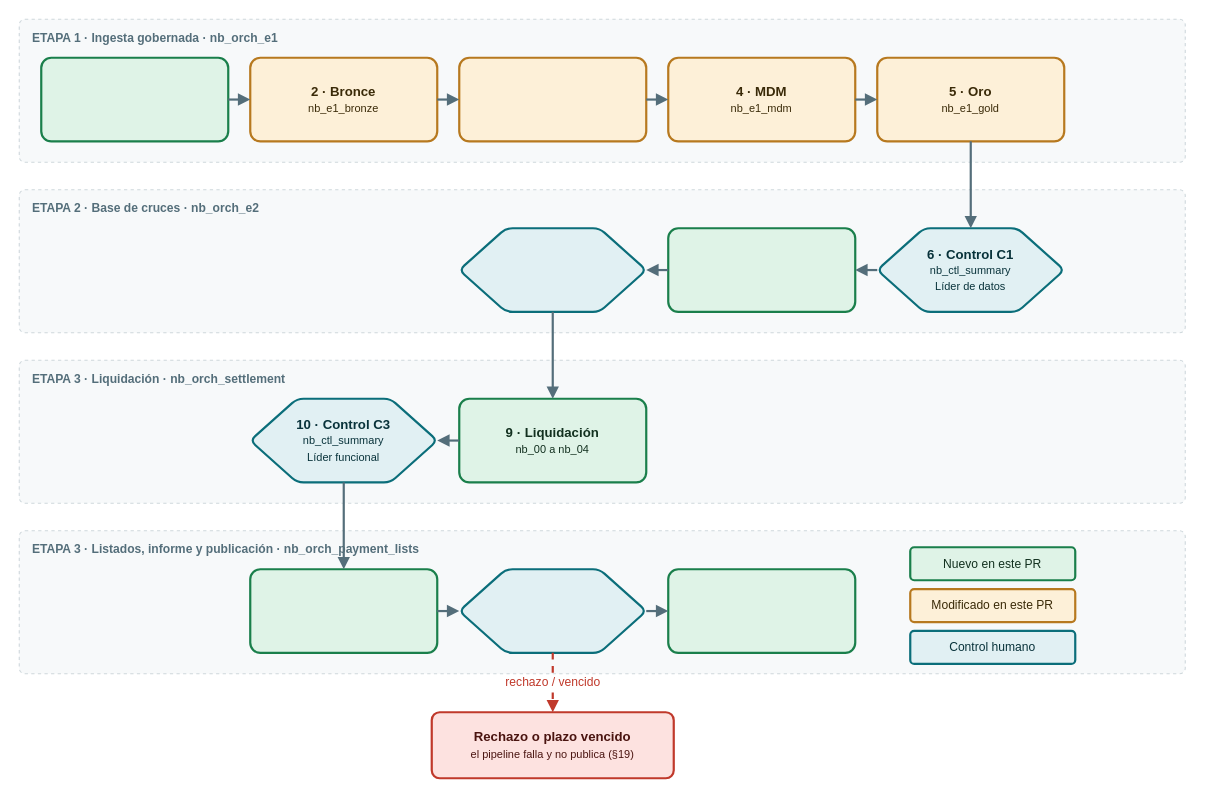
Some shapes in this 1205 by 799 pixel diagram are drawn without their labels. Each missing label, with the centre of its shape:
"1 · Abrir ciclo nb_init_cycle" belongs at (134,99).
"11 · Listados + informe nb_05 · nb_06" belongs at (343,610).
"12 · Control C4 nb_ctl_summary Responsable del programa" belongs at (552,610).
"13 · Publicación nb_07_publish · SHA-256" belongs at (761,610).
"3 · Plata + cuarentena nb_e1_silver" belongs at (552,99).
"7 · Base de cruces nb_e2_crosscheck_* · nb_e2_consolidation" belongs at (761,269).
"8 · Control C2 nb_ctl_summary Analista líder" belongs at (552,269).
